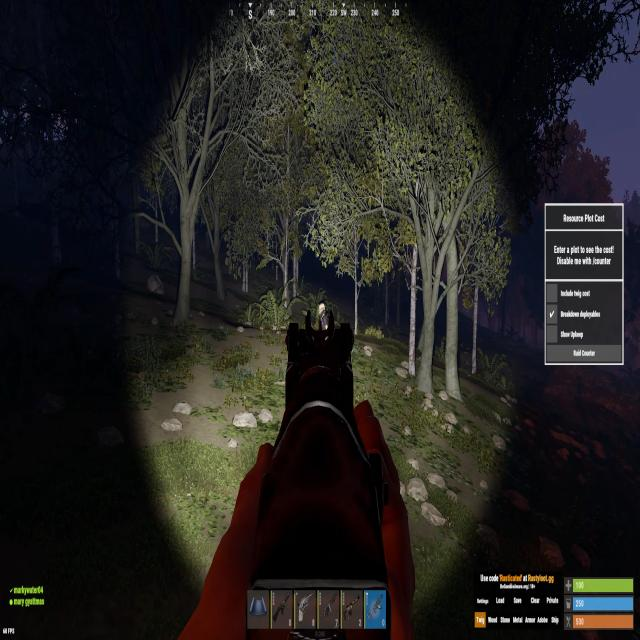Player: (318, 303, 329, 330)
